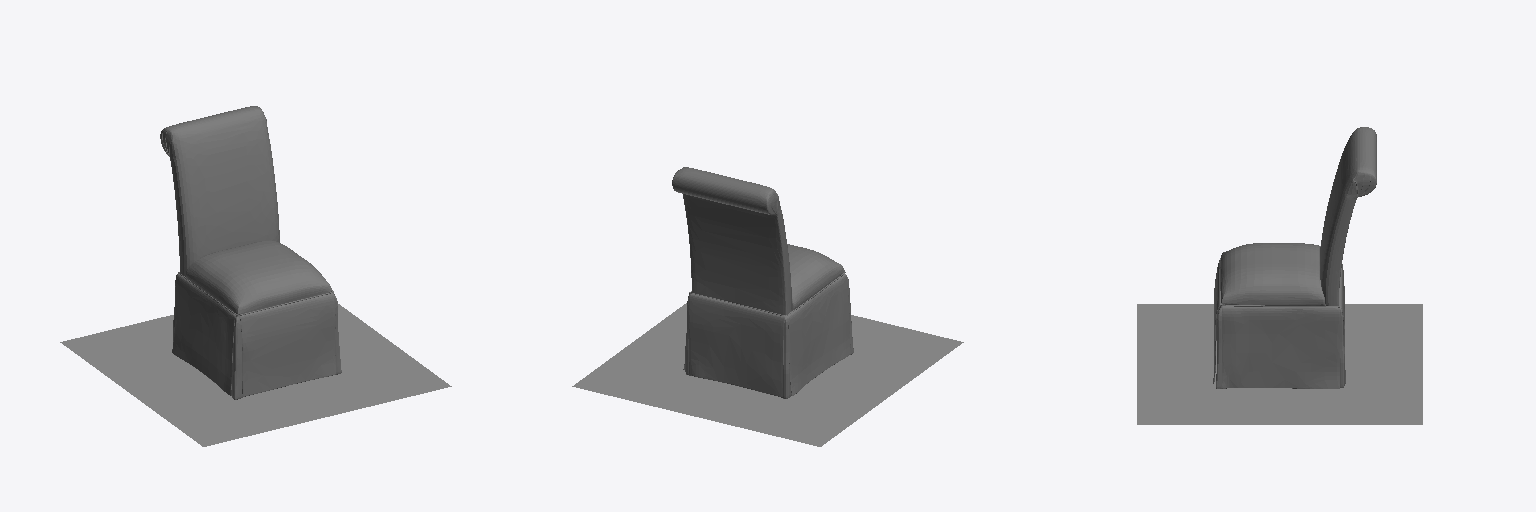
The model's file is ALTH6694.obj.
3 views of the same model, side by side, from view 1: azimuth 30°, elevation 25°; view 2: azimuth 150°, elevation 25°; view 3: azimuth 270°, elevation 25° (orthographic).
Visible parts, largest first — view 1: not_clear_obj_1_v6, shadow_plane_v6, not_clear_obj_0_v6; view 2: not_clear_obj_1_v6, shadow_plane_v6, not_clear_obj_0_v6; view 3: shadow_plane_v6, not_clear_obj_1_v6, not_clear_obj_0_v6.
Boxes of the visible parts, box(x1,y1,x2,y2) form: not_clear_obj_1_v6: box(160, 106, 335, 396); shadow_plane_v6: box(60, 304, 451, 446); not_clear_obj_0_v6: box(173, 240, 341, 399); not_clear_obj_1_v6: box(672, 167, 850, 396); shadow_plane_v6: box(572, 303, 963, 446); not_clear_obj_0_v6: box(685, 244, 853, 398); shadow_plane_v6: box(1137, 304, 1422, 424); not_clear_obj_1_v6: box(1213, 127, 1376, 388); not_clear_obj_0_v6: box(1216, 243, 1344, 388).
Size of the model in its own units: 118 by 98.17 by 118.